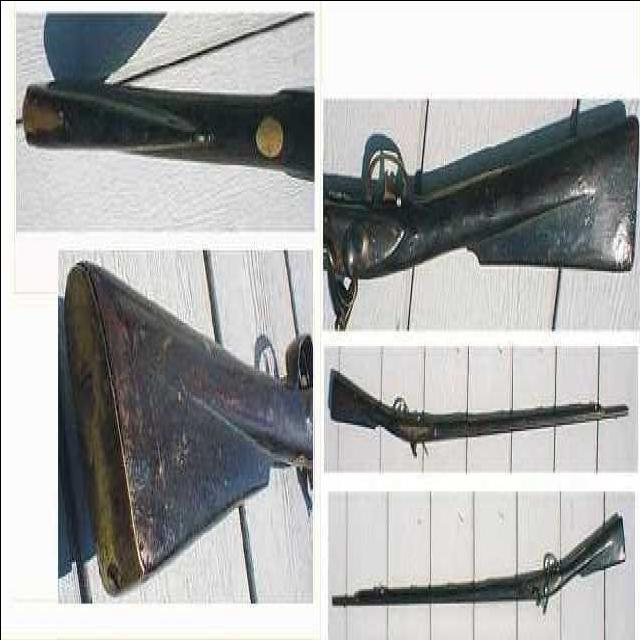heavyweapon: (329, 78, 640, 323), (330, 487, 630, 639), (323, 336, 632, 482)
